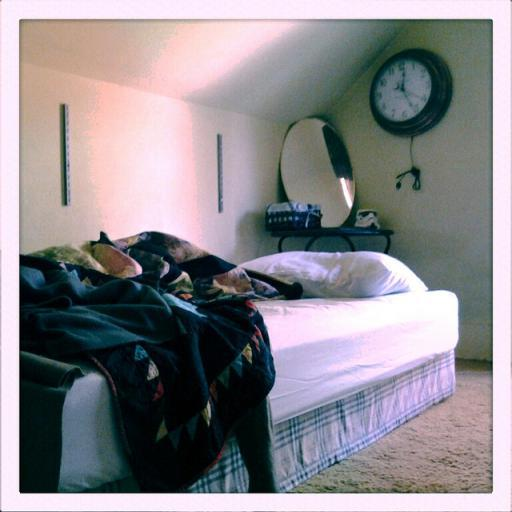bed: (30, 188, 470, 490)
